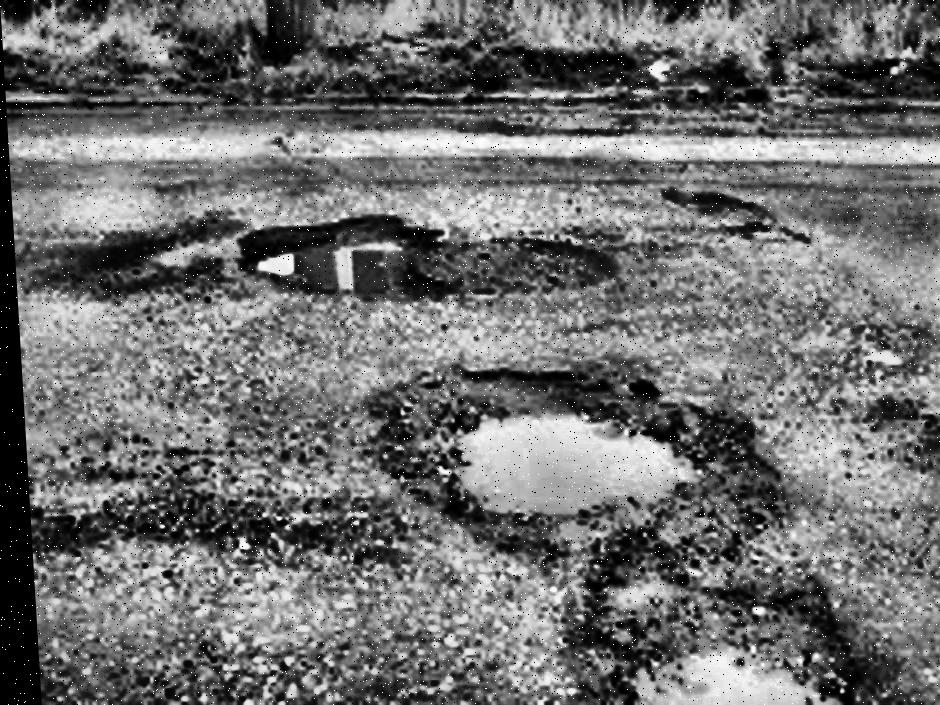pothole: (364, 363, 763, 531), (570, 530, 853, 705), (238, 216, 432, 302), (662, 180, 791, 253)
